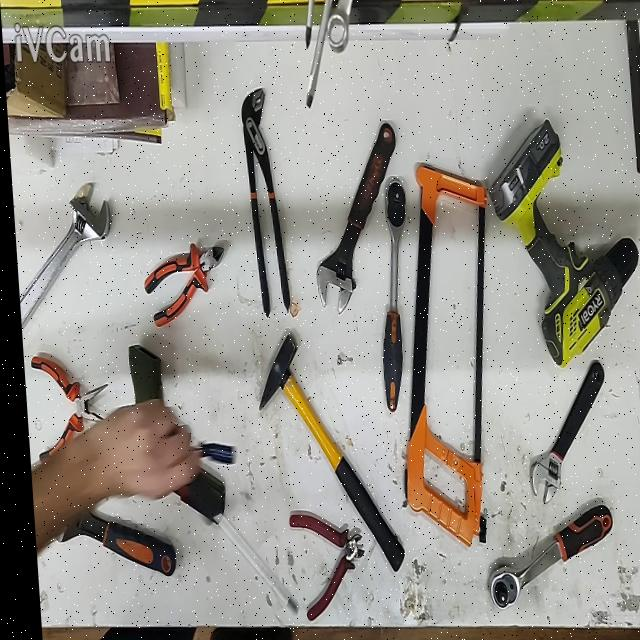Screwdriver: (188, 442, 230, 464)
